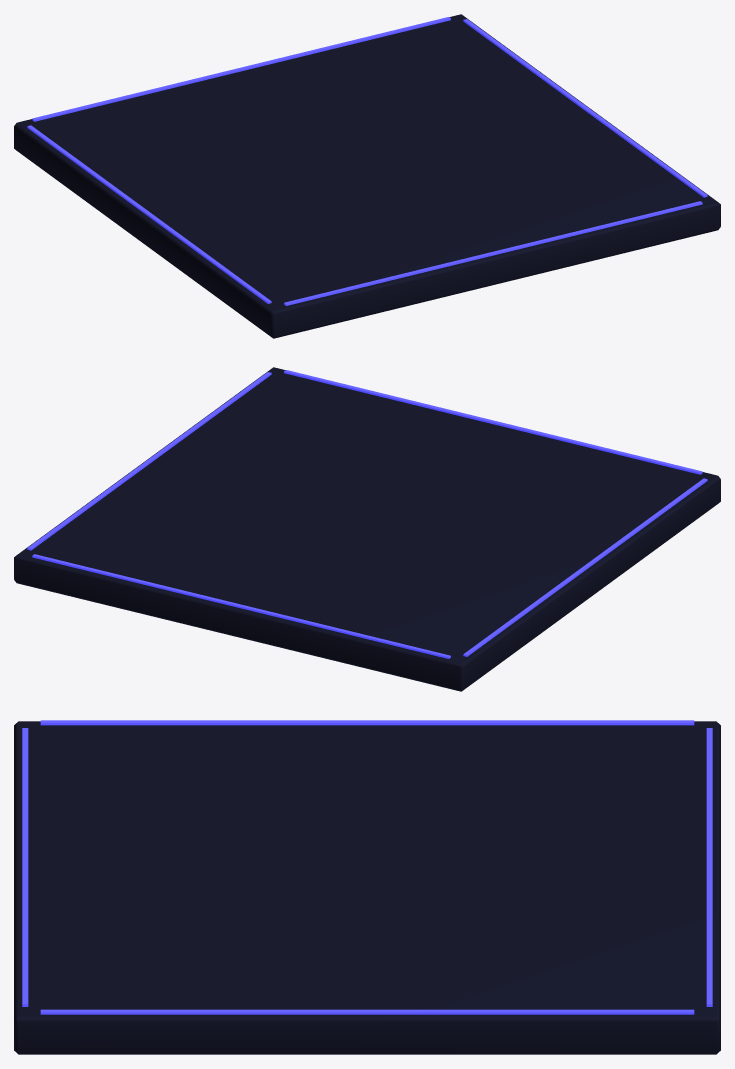
File: NT_Floor_Plain.fbx
3 views of the same model, one above another, from view 1: azimuth 30°, elevation 25°; view 2: azimuth 150°, elevation 25°; view 3: azimuth 270°, elevation 25° (orthographic). The views are drawn at different scales.
Parts seen in each view (by area): view 1: NT_Floor_Plain__FloorMesh; view 2: NT_Floor_Plain__FloorMesh; view 3: NT_Floor_Plain__FloorMesh.
Boxes of the visible parts, bbox=[...] form: NT_Floor_Plain__FloorMesh: bbox=[14, 14, 720, 338]; NT_Floor_Plain__FloorMesh: bbox=[14, 367, 720, 691]; NT_Floor_Plain__FloorMesh: bbox=[14, 720, 720, 1054].
Bounding box in the file's own units: 2 × 0.1275 × 2.
